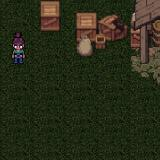Hide: (33, 0, 68, 33)
Obstacle: (68, 9, 129, 63), (128, 1, 160, 88)
Victim: (5, 33, 33, 67)
